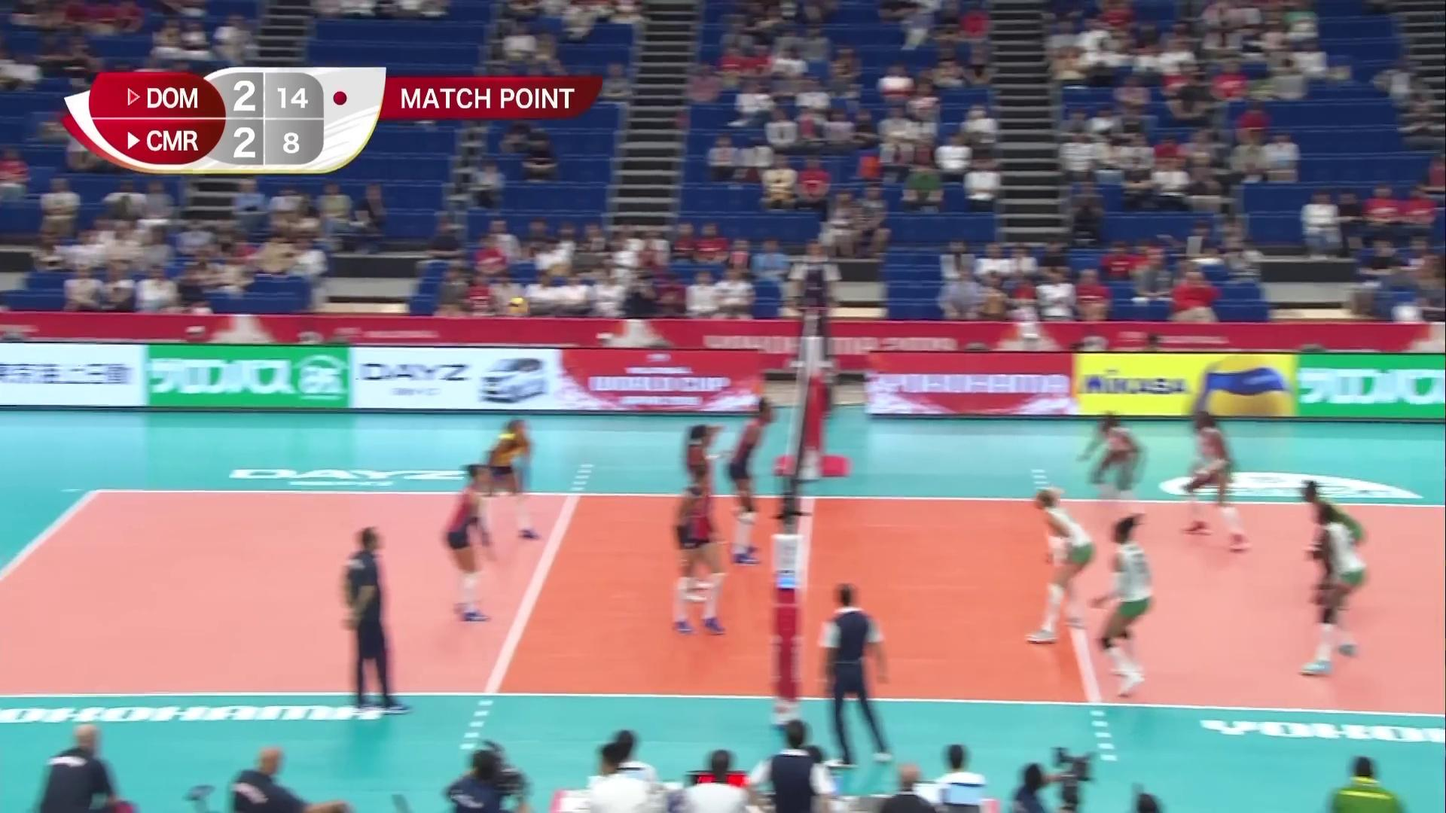player: (1092, 514, 1157, 697), (1027, 488, 1102, 645), (1304, 503, 1367, 679), (676, 465, 730, 636), (467, 421, 541, 545), (1297, 482, 1369, 604), (1182, 410, 1245, 549), (678, 420, 725, 603), (446, 464, 499, 626), (734, 396, 783, 570), (1081, 414, 1150, 510)
refree: (822, 580, 889, 765), (793, 239, 838, 368)
